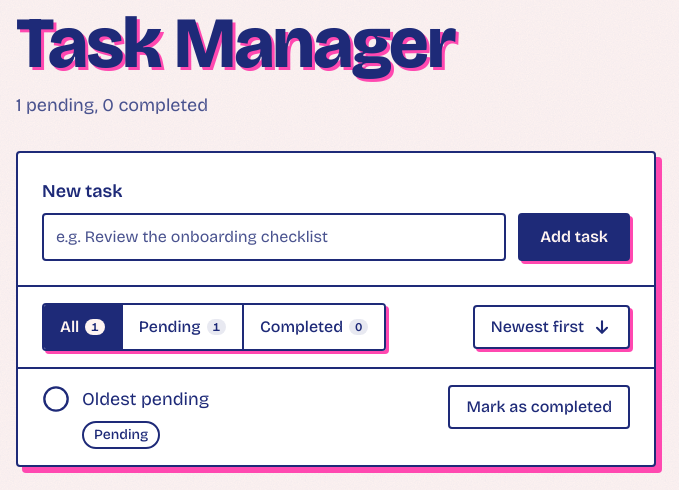
Test case: App › when a status change hides the row › moves focus to the selected filter segment when no row is left
Click the button "Pending 1".
click(183, 327)  # box [123,305,244,349]
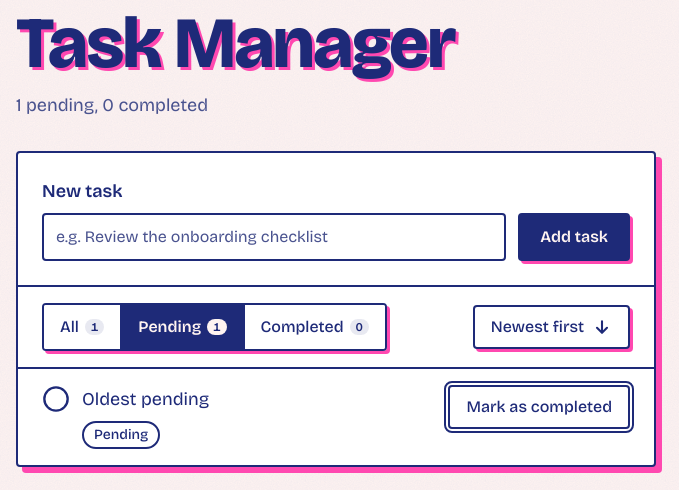
Click the button "Mark as completed".
click(539, 407)  # box [448,385,630,429]
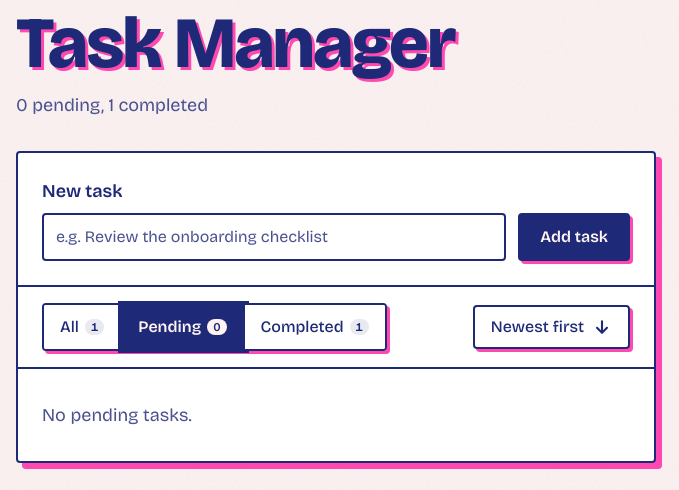
Expected: the text "No pending tasks." is shown, [42,404,192,426]
